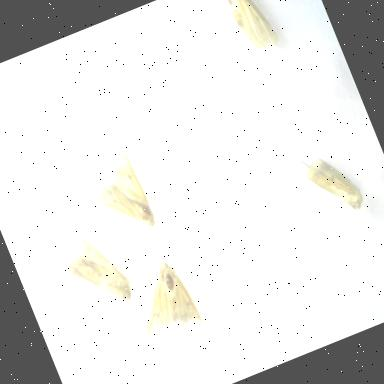abw: (51, 218, 139, 324), (76, 146, 164, 250), (118, 250, 208, 350), (293, 137, 371, 228), (213, 0, 286, 65)
